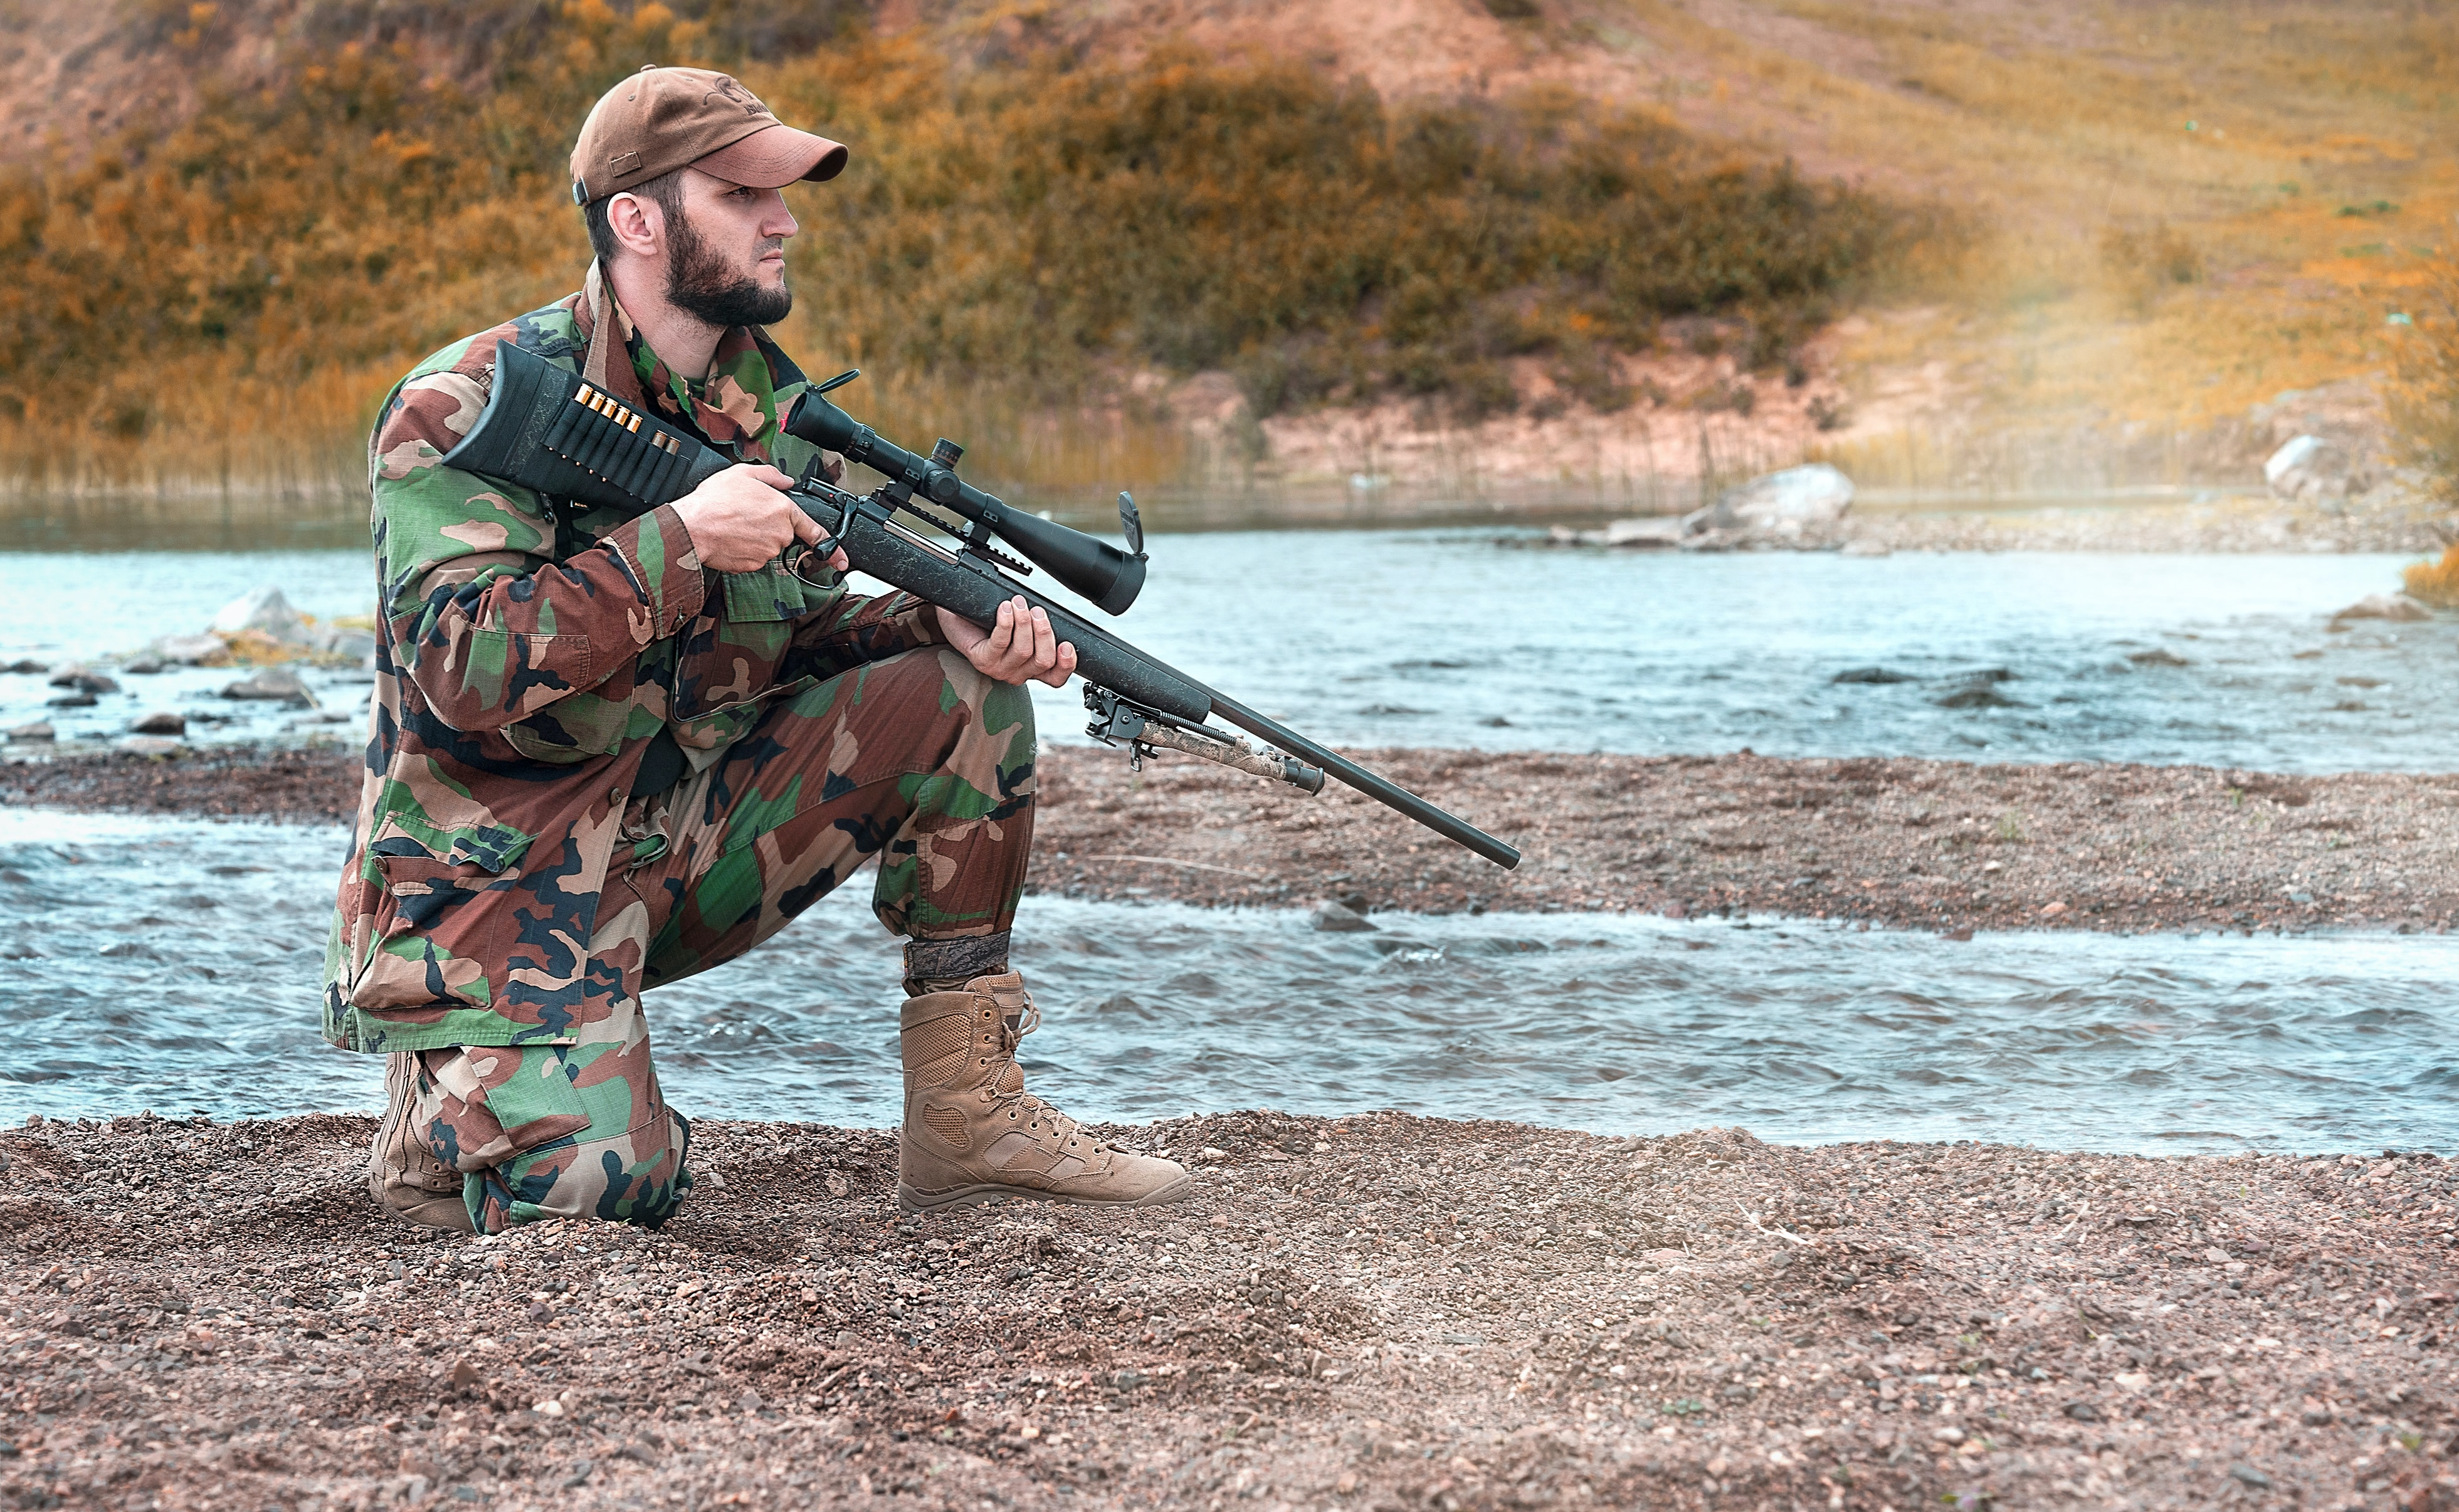gun: (437, 334, 1516, 875)
